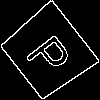P: (23, 27, 81, 81)
